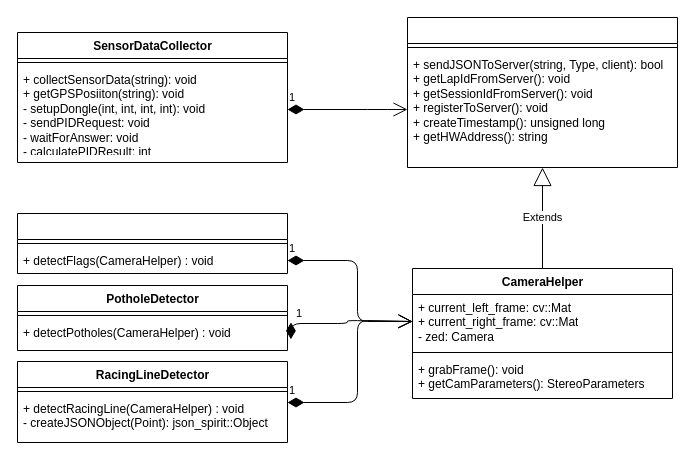
The diagram is 695 pixels wide and 462 high, and some of its shapes have lost their labels. The box of each missing label's shape, as (x1, y1, x2, y2) in pixels:
FlagDetector: (16, 212, 288, 274)
Helper: (406, 16, 678, 168)
